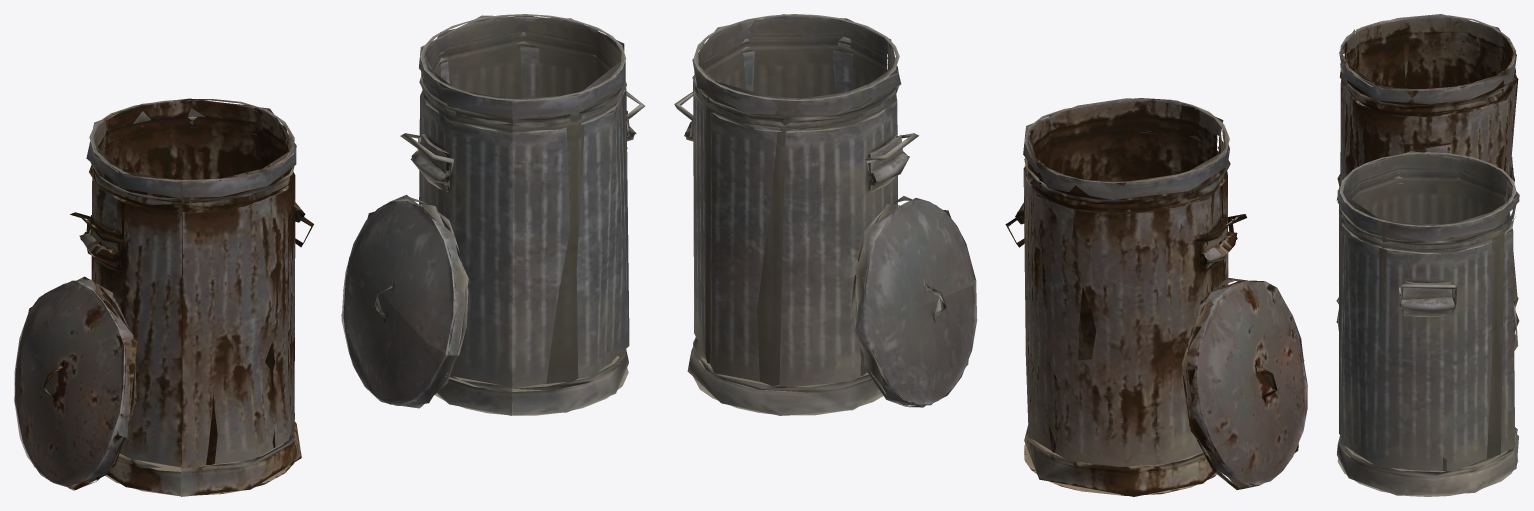
Rendered from metal-trash-can.glb.
The picture shows the model from 3 angles, left to right: view 1: azimuth 30°, elevation 25°; view 2: azimuth 150°, elevation 25°; view 3: azimuth 270°, elevation 25°; orthographic projection. The views are drawn at different scales.
Parts seen in each view (by area): view 1: metal_trash_can_handle_left; view 2: metal_trash_can_handle_left; view 3: metal_trash_can_handle_left.
Part boxes in pixels (x1,y1,x2,y2): metal_trash_can_handle_left: (14,14,644,496); metal_trash_can_handle_left: (674,14,1307,496); metal_trash_can_handle_left: (1336,14,1519,496).
Bounding box in the file's own units: 0.9337 × 0.4771 × 0.2943.
3 materials, 3 textured.
